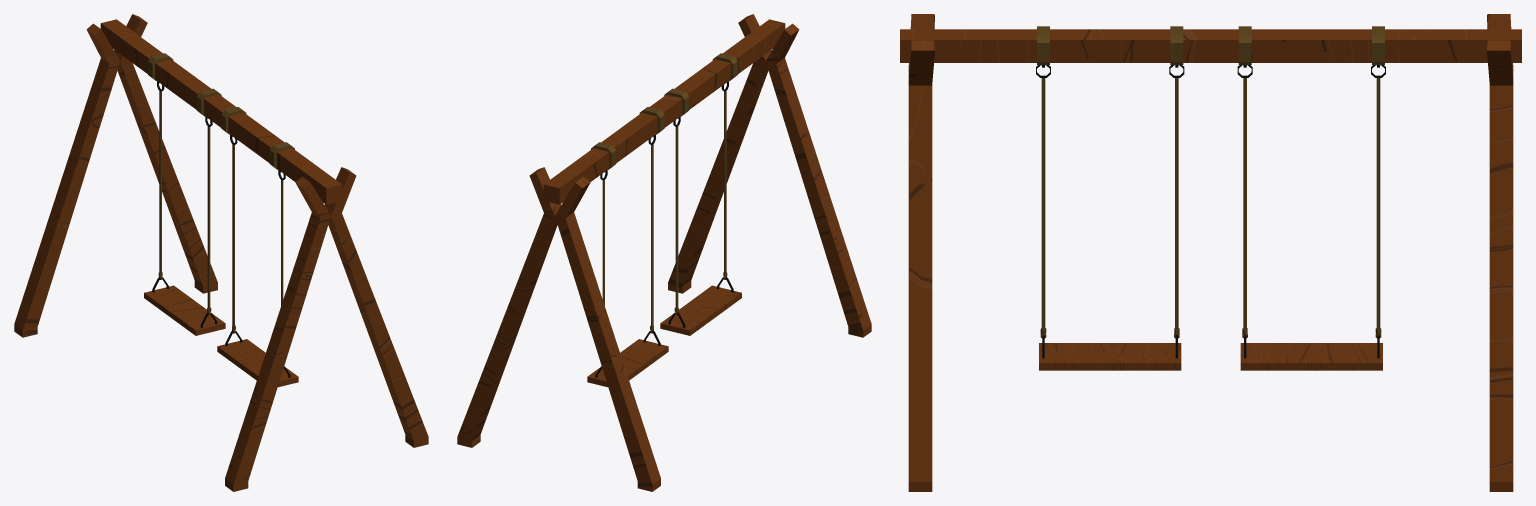
Rendered from Swing.fbx.
3 views of the same model, side by side, from view 1: azimuth 30°, elevation 25°; view 2: azimuth 150°, elevation 25°; view 3: azimuth 270°, elevation 25° (orthographic). The views are drawn at different scales.
Parts seen in each view (by area): view 1: Cube.004; view 2: Cube.004; view 3: Cube.004.
Part boxes in pixels (x1=…): Cube.004: x1=14, y1=14, x2=428, y2=491; Cube.004: x1=457, y1=14, x2=871, y2=491; Cube.004: x1=900, y1=14, x2=1521, y2=491.
Bounding box in the file's own units: 536 × 760 × 1073.
